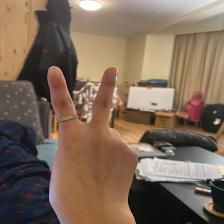two: (38, 59, 148, 209)
